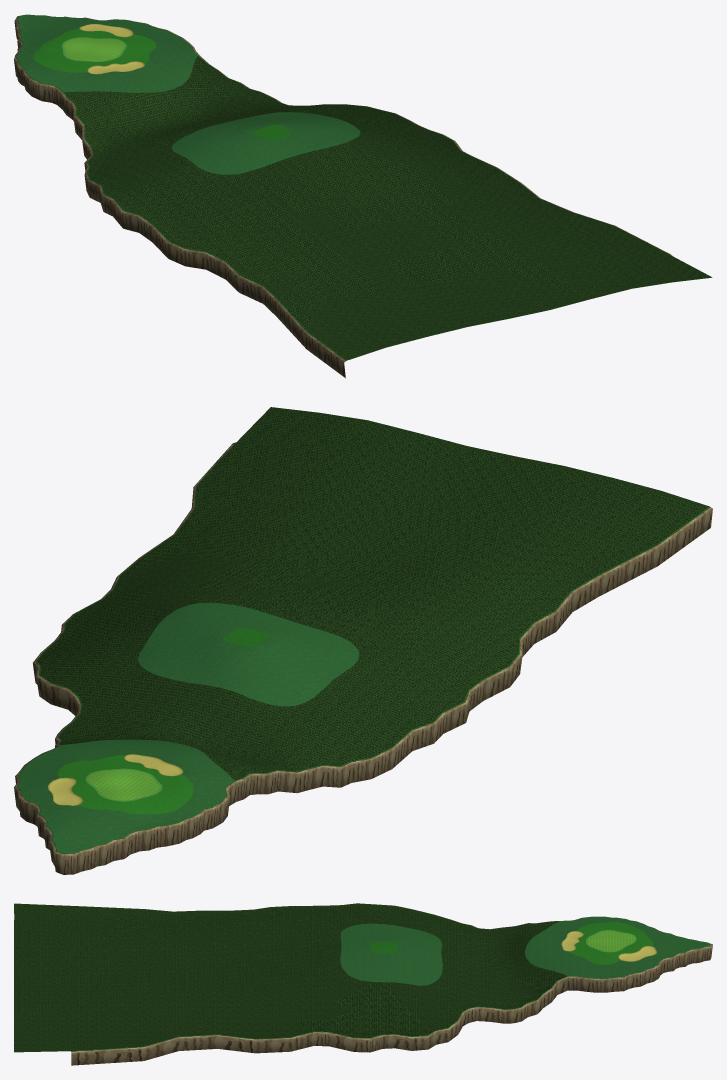
The model's file is glf_map_fc14__glf_map_fc14.glb.
The picture shows the model from 3 angles, top to bottom: view 1: azimuth 30°, elevation 25°; view 2: azimuth 150°, elevation 25°; view 3: azimuth 270°, elevation 25°; orthographic projection. The views are drawn at different scales.
Visible parts, largest first — view 1: polygon6, polygon7, polygon5, polygon3, polygon4, polygon0; view 2: polygon6, polygon7, polygon5, polygon3, polygon4, polygon0; view 3: polygon6, polygon5, polygon7, polygon3, polygon4, polygon0.
Boxes of the visible parts, bbox=[...] form: polygon6: bbox=[64, 56, 712, 360]; polygon7: bbox=[17, 14, 360, 174]; polygon5: bbox=[14, 14, 672, 378]; polygon3: bbox=[33, 28, 291, 140]; polygon4: bbox=[64, 38, 124, 61]; polygon0: bbox=[79, 24, 144, 74]; polygon6: bbox=[36, 407, 709, 780]; polygon7: bbox=[18, 603, 359, 853]; polygon5: bbox=[14, 442, 712, 874]; polygon3: bbox=[57, 628, 268, 814]; polygon4: bbox=[88, 769, 159, 800]; polygon0: bbox=[48, 754, 183, 805]; polygon6: bbox=[14, 903, 566, 1052]; polygon5: bbox=[20, 903, 712, 1065]; polygon7: bbox=[340, 916, 709, 985]; polygon3: bbox=[370, 922, 653, 964]; polygon4: bbox=[587, 931, 634, 951]; polygon0: bbox=[561, 931, 656, 961].
Size of the model in its own units: 2005 by 290 by 3993.
7 materials, 7 textured.
